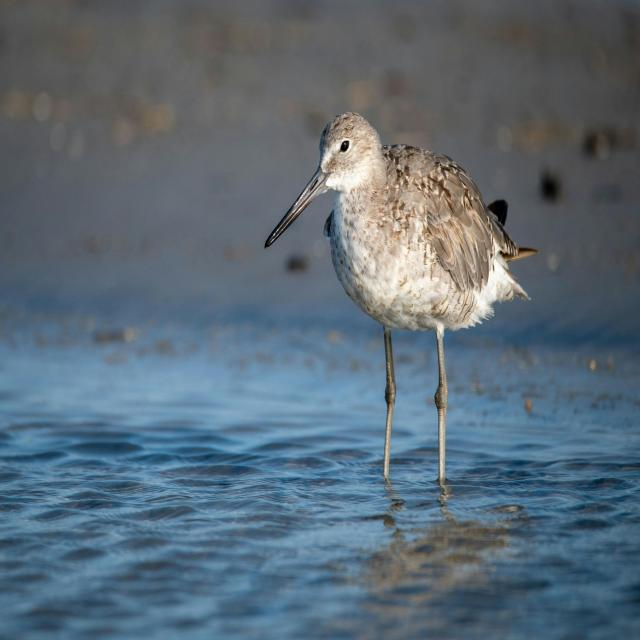Sandpiper: (262, 110, 524, 490)
